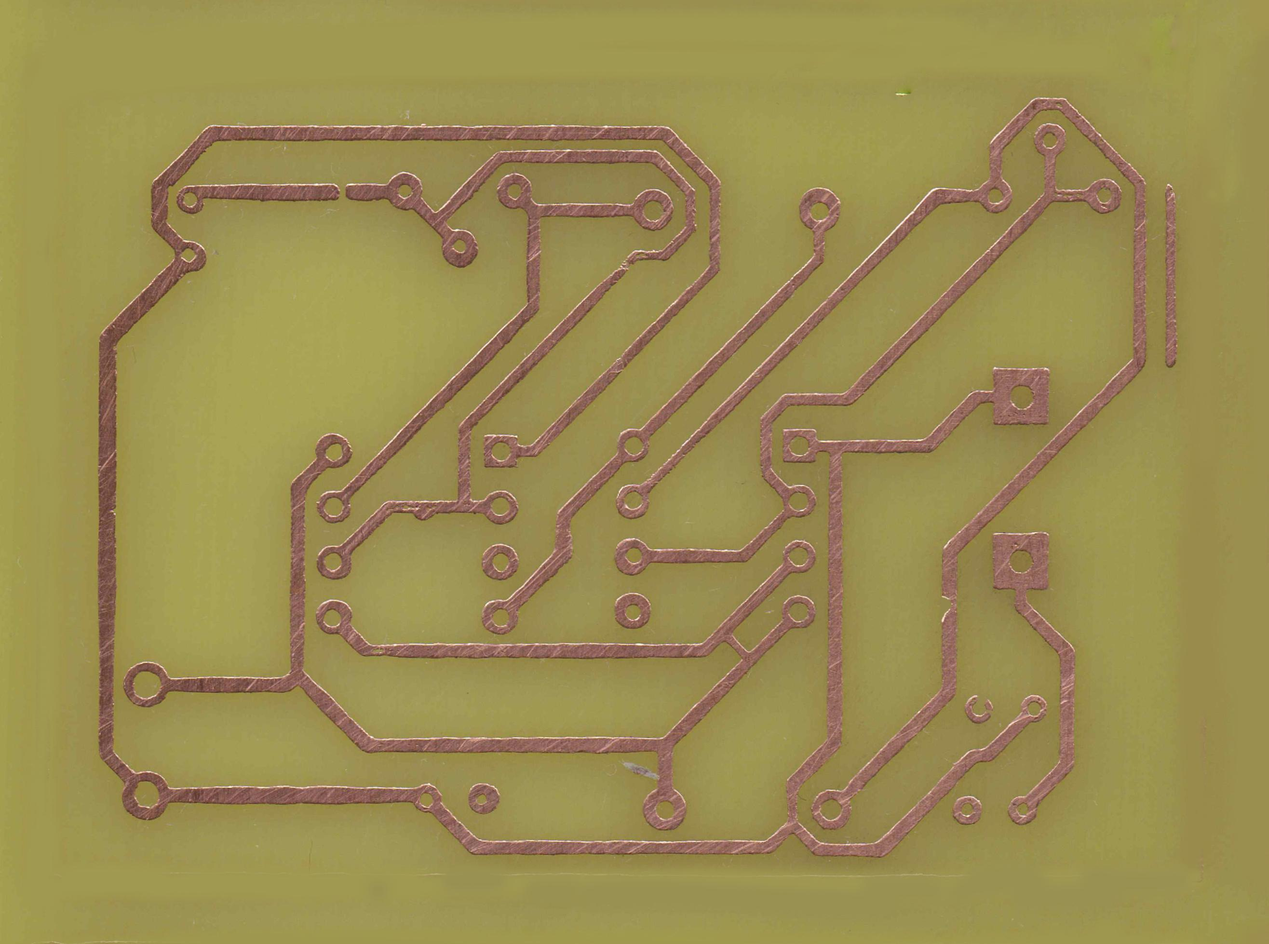missing_hole: (963, 693, 996, 725)
mouse_bite: (937, 581, 962, 625)
open_circuit: (327, 180, 359, 204)
short: (712, 619, 760, 668)
spur: (407, 494, 439, 525)
spurious_copper: (1159, 183, 1184, 373)
